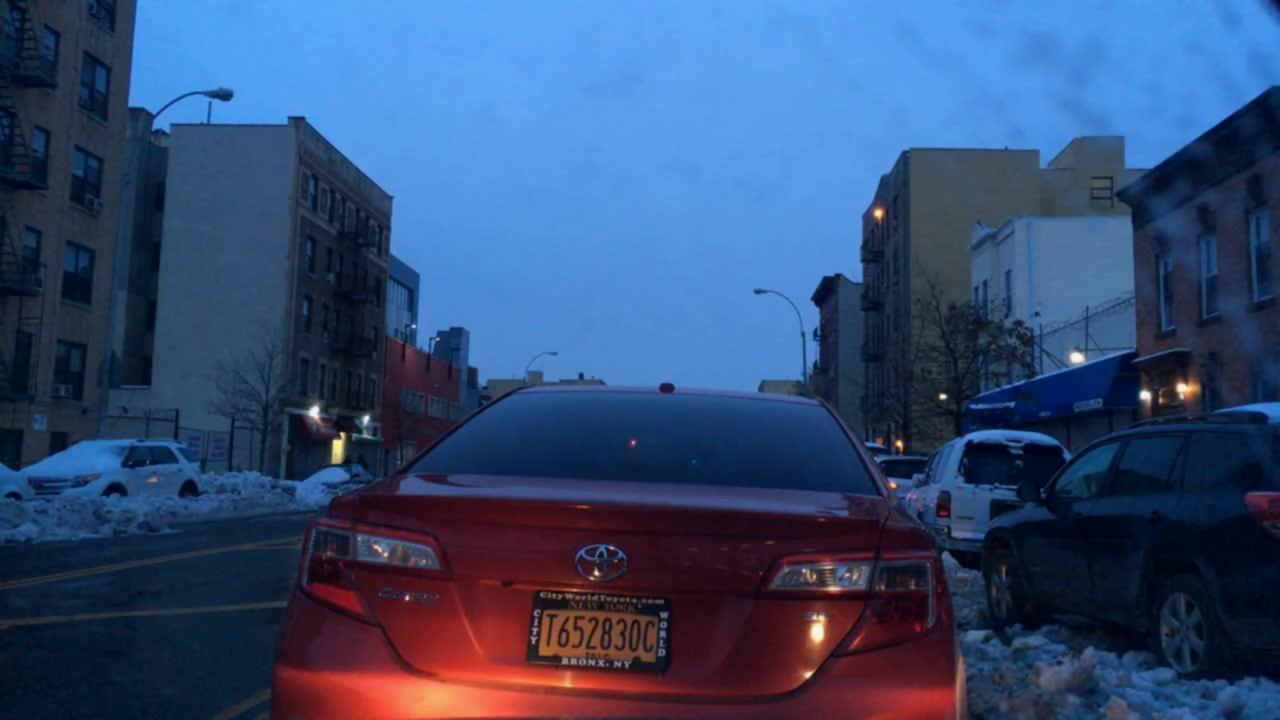Toyota: (549, 530, 649, 593)
